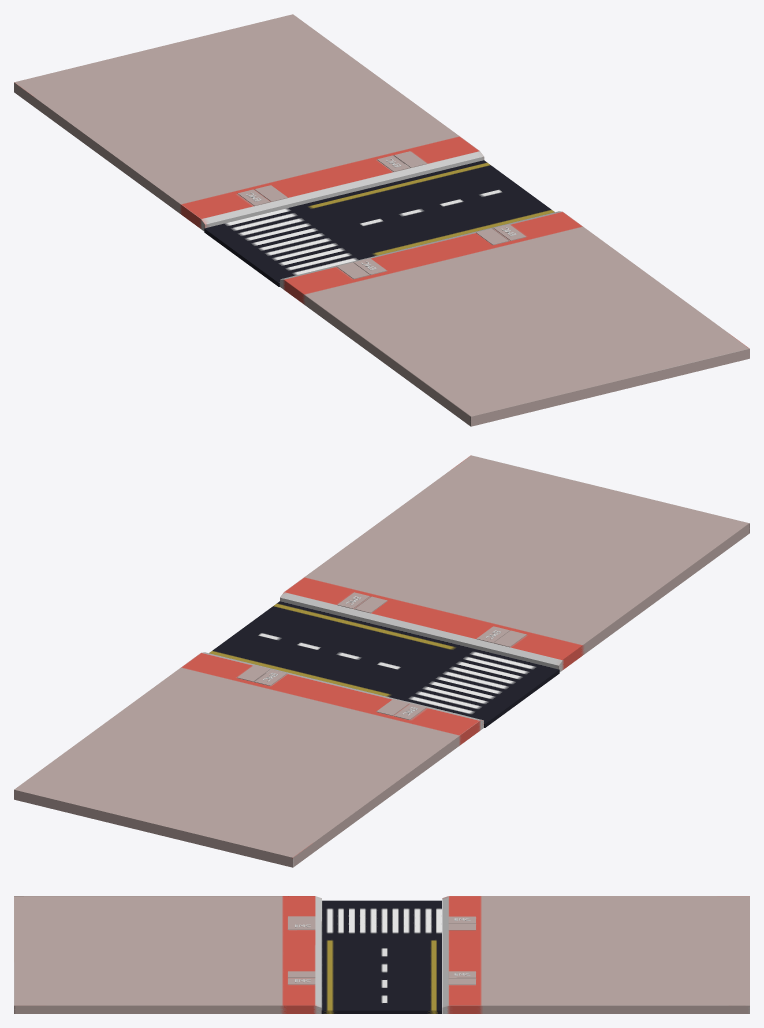
File: CITY ROAD W_ PED (FINALL).fbx
3 views of the same model, one above another, from view 1: azimuth 30°, elevation 25°; view 2: azimuth 150°, elevation 25°; view 3: azimuth 270°, elevation 25° (orthographic). The views are drawn at different scales.
Parts seen in each view (by area): view 1: ped.001; view 2: ped.001; view 3: ped.001.
Part boxes in pixels (left/top/right/bottom): ped.001: left=14, top=14, right=749, bottom=426; ped.001: left=14, top=455, right=749, bottom=867; ped.001: left=14, top=896, right=749, bottom=1013.
Bounding box in the file's own units: 1681 × 63.35 × 4752.
Materials: 2 (1 with a texture image).
